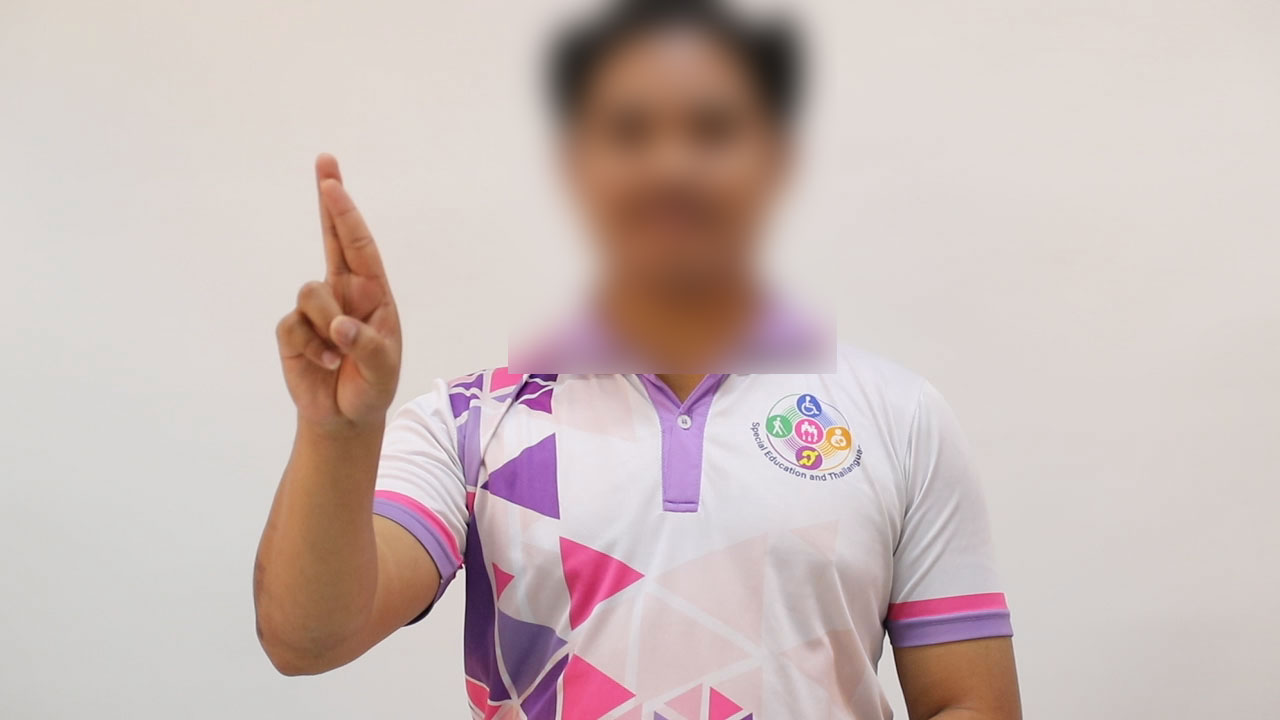rao: (256, 144, 414, 440)
